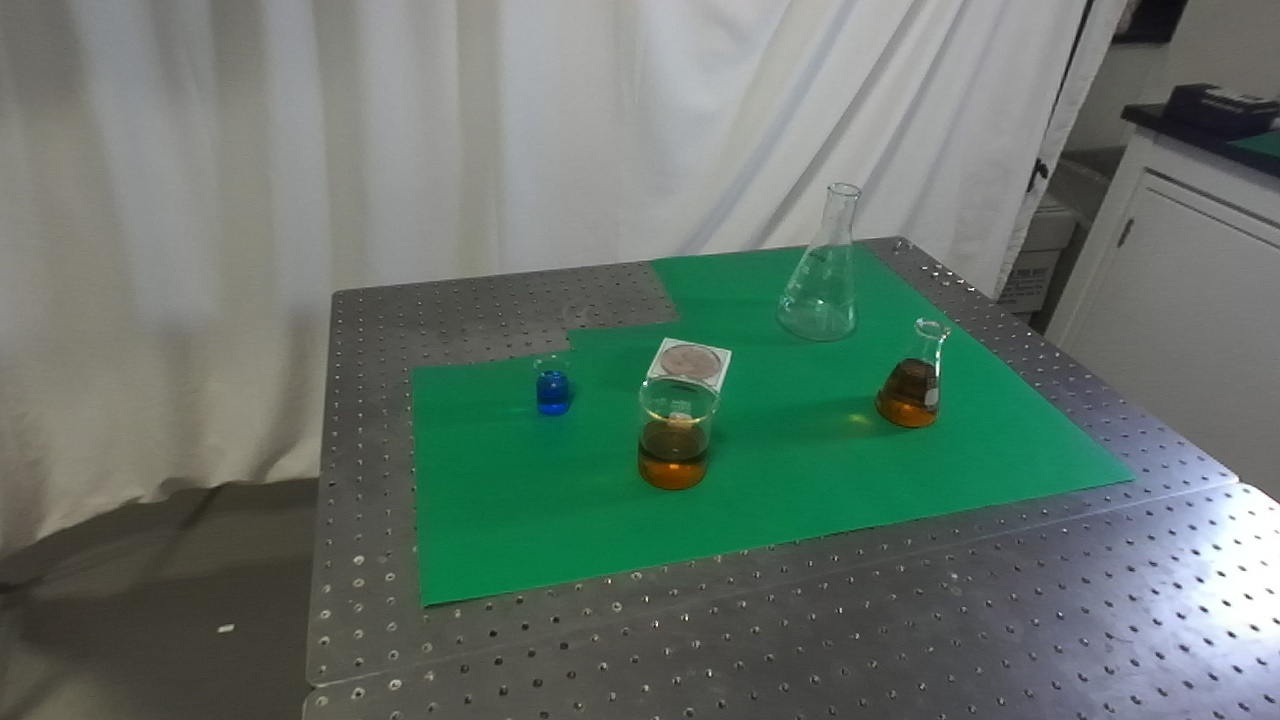glass: (772, 179, 864, 351), (632, 371, 723, 495), (871, 314, 952, 435), (531, 354, 575, 416)
plate: (639, 335, 735, 396)
